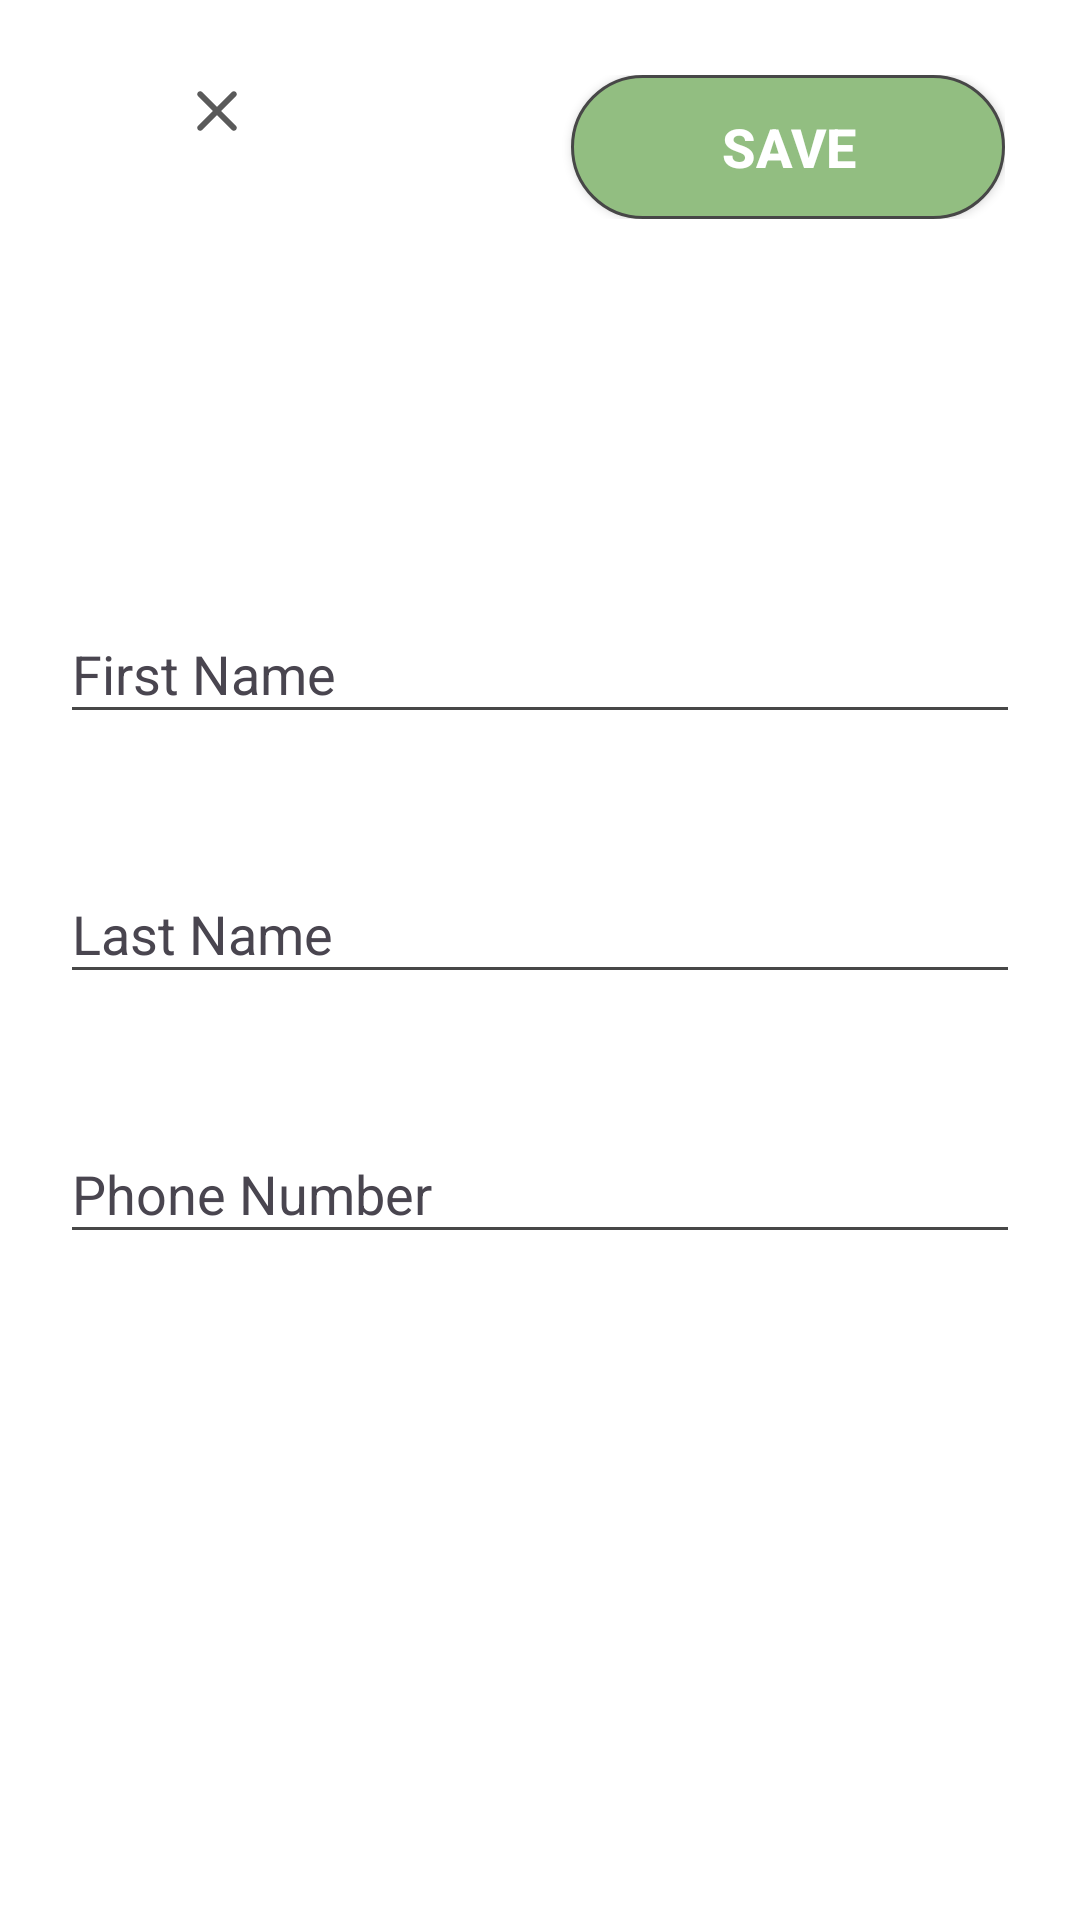

Named icons in this screenshot (1080px x 1920px) and their bounding boxes, [x1, y1, x2, y2]:
clear: [197, 91, 237, 131]
